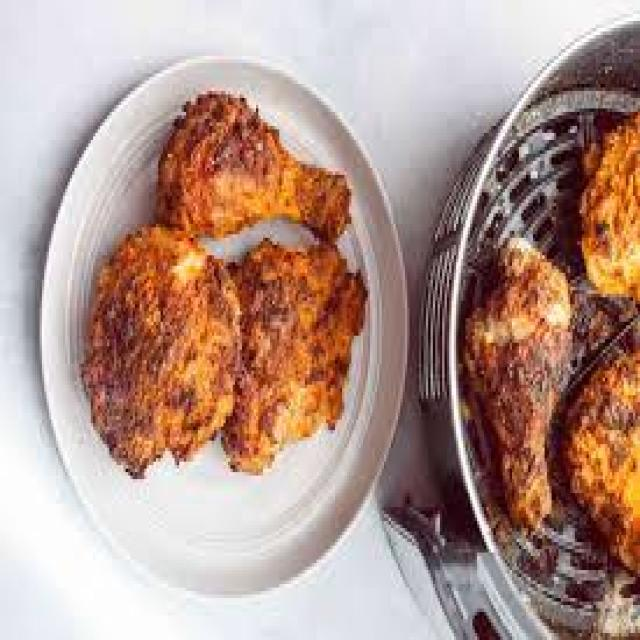Frango: (77, 88, 386, 486), (465, 101, 640, 563)
